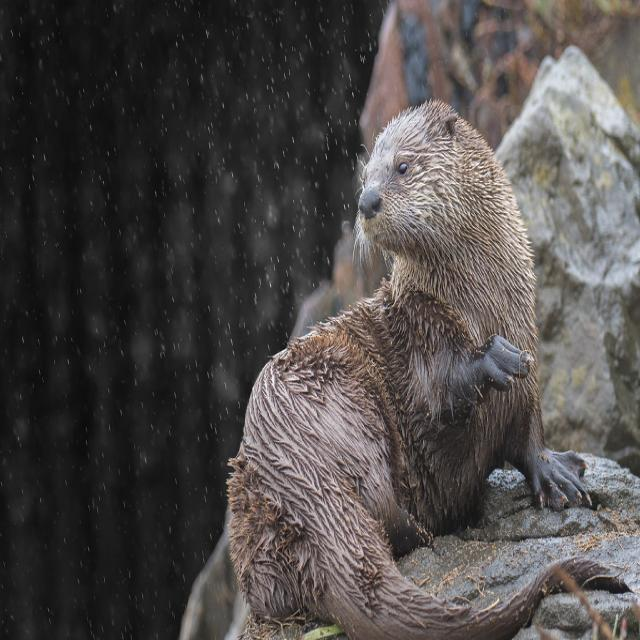otter: (230, 105, 537, 624)
